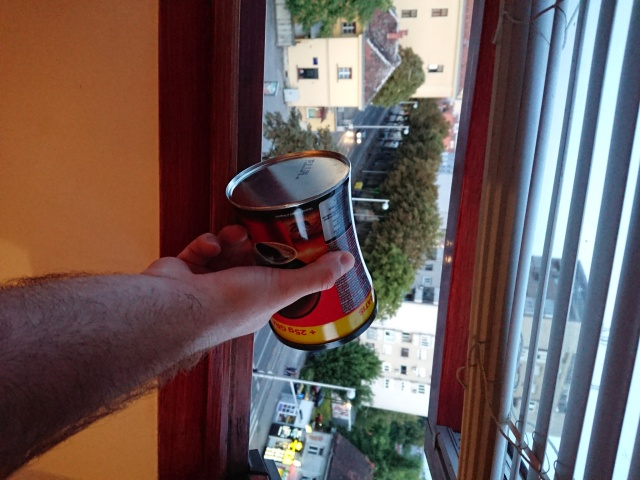Nescafe Classic 225g: (222, 149, 382, 354)
